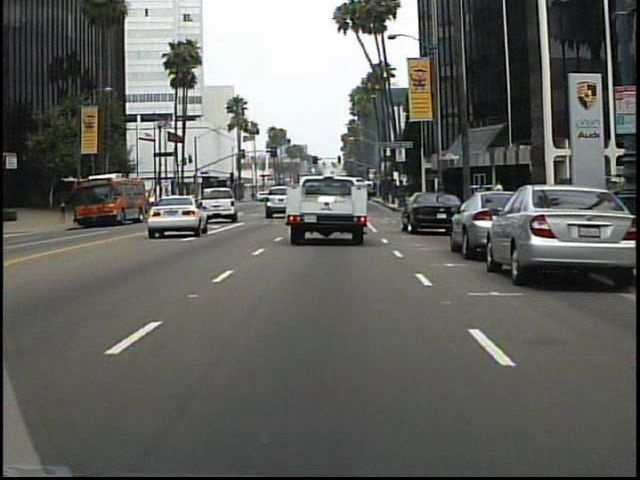person: (490, 179, 508, 220), (58, 193, 73, 226)
